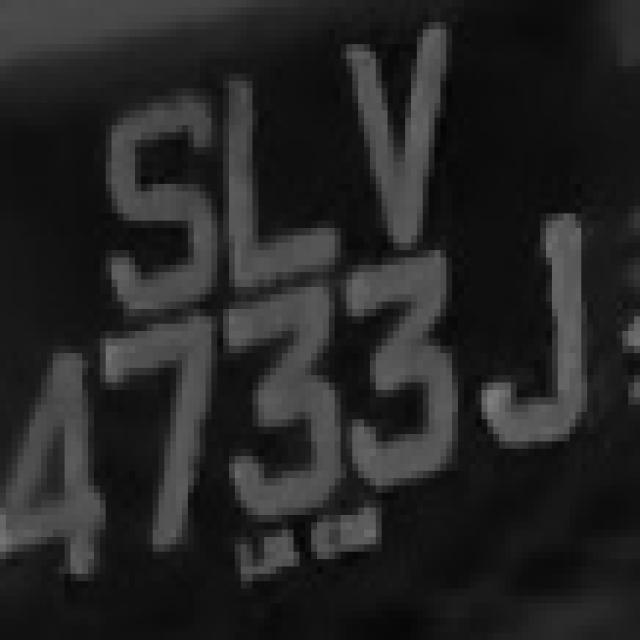3: (311, 228, 470, 500), (211, 272, 335, 537)
4: (12, 316, 112, 626)
7: (88, 280, 223, 581)
J: (452, 191, 599, 456)
L: (200, 44, 352, 302)
S: (82, 59, 223, 324)
V: (317, 22, 476, 258)
